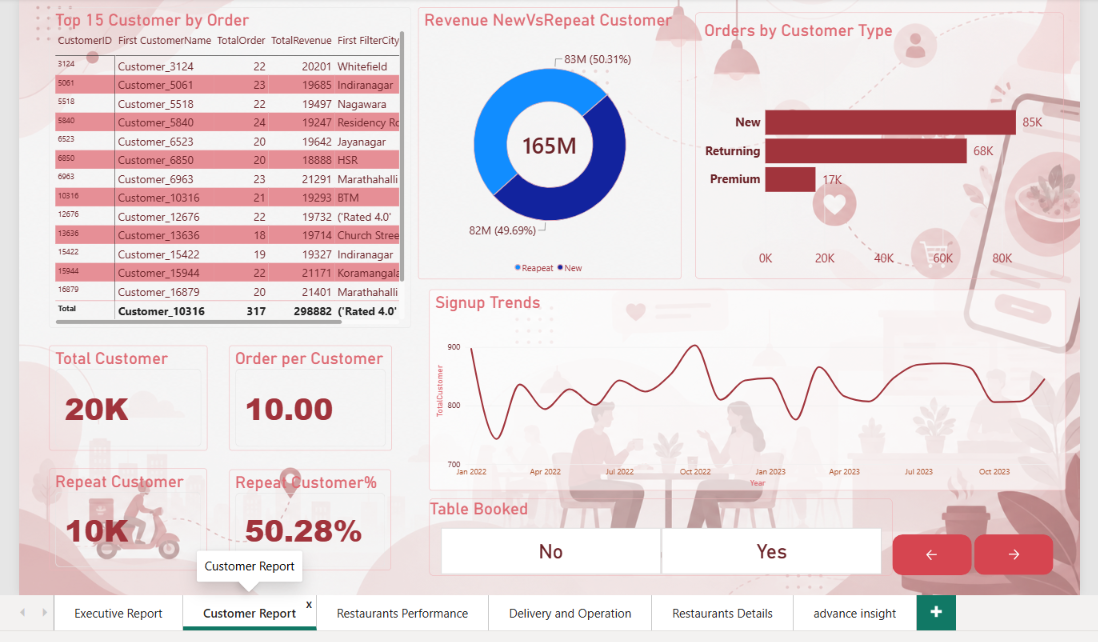

What the dashboard file says about the page in this screenshot:
{"tool":"powerbi","page":{"name":"Customer Report","canvas":[1920,1080],"ordinal":1},"visuals":[{"type":"cardVisual","title":"Order per Customer","fields":{"Data":["Orders.OrderPerCustomer"]},"box":[380,627.5,294,190],"z":0},{"type":"cardVisual","title":"Repeat Customer%","fields":{"Data":["Orders.ReapeatCustomer%"]},"box":[380,852.4,293.2,182.8],"z":1000},{"type":"cardVisual","title":"Total Customer ","fields":{"Data":["Orders.TotalCustomer"]},"box":[55,627.5,286,190],"z":2000},{"type":"cardVisual","title":"Repeat Customer","fields":{"Data":["Orders.ReapetCutomer"]},"box":[54.3,850.5,285.9,184.6],"z":3000},{"type":"lineChart","title":"Signup Trends ","fields":{"Category":["Customers.SignupDate.Variation.Date Hierarchy.Year","Customers.SignupDate.Variation.Date Hierarchy.Month"],"Y":["Orders.TotalCustomer"]},"box":[742.9,525.7,1152,364],"z":4000},{"type":"clusteredBarChart","title":"Orders by Customer Type","fields":{"Category":["Customers.CustomerType"],"Y":["Orders.TotalOrder"]},"box":[1222.5,25,667.5,482.5],"z":5000},{"type":"donutChart","title":"Revenue NewVsRepeat Customer","fields":{"Category":["Customers.NewVsRepeat"],"Y":["Orders.TotalRevenue"]},"box":[722,16,476,492],"z":6000},{"type":"pivotTable","title":"Top 15 Customer by Order ","fields":{"Rows":["Customers.CustomerID"],"Values":["Min(Customers.CustomerName)","Orders.TotalOrder","Orders.TotalRevenue","Min(Customers.FilterCity)"]},"box":[54,16,654,580],"z":7000},{"type":"actionButton","box":[1727.5,970,143.3,73.3],"z":8000},{"type":"actionButton","box":[1580,970,144,74],"z":9000},{"type":"slicer","title":"Table Booked ","fields":{"Values":["Restaurants.BookTable"]},"box":[742.5,905,838,140],"z":10000}]}

Visuals, with their boxes on the page's 1920x1080 design canvas (x1, y1, x2, y2). These are canvas units, not pixel positions in the 1098x642 screenshot, which may show the page scaled, cropped or inside an application window:
"Order per Customer" cardVisual: 380,628,674,818
"Repeat Customer%" cardVisual: 380,852,673,1035
"Total Customer " cardVisual: 55,628,341,818
"Repeat Customer" cardVisual: 54,850,340,1035
"Signup Trends " lineChart: 743,526,1895,890
"Orders by Customer Type" clusteredBarChart: 1222,25,1890,508
"Revenue NewVsRepeat Customer" donutChart: 722,16,1198,508
"Top 15 Customer by Order " pivotTable: 54,16,708,596
actionButton: 1728,970,1871,1043
actionButton: 1580,970,1724,1044
"Table Booked " slicer: 742,905,1580,1045
